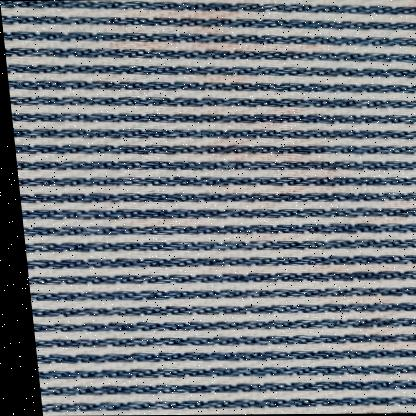spot: (181, 1, 260, 82), (210, 135, 307, 197), (205, 88, 297, 130)
